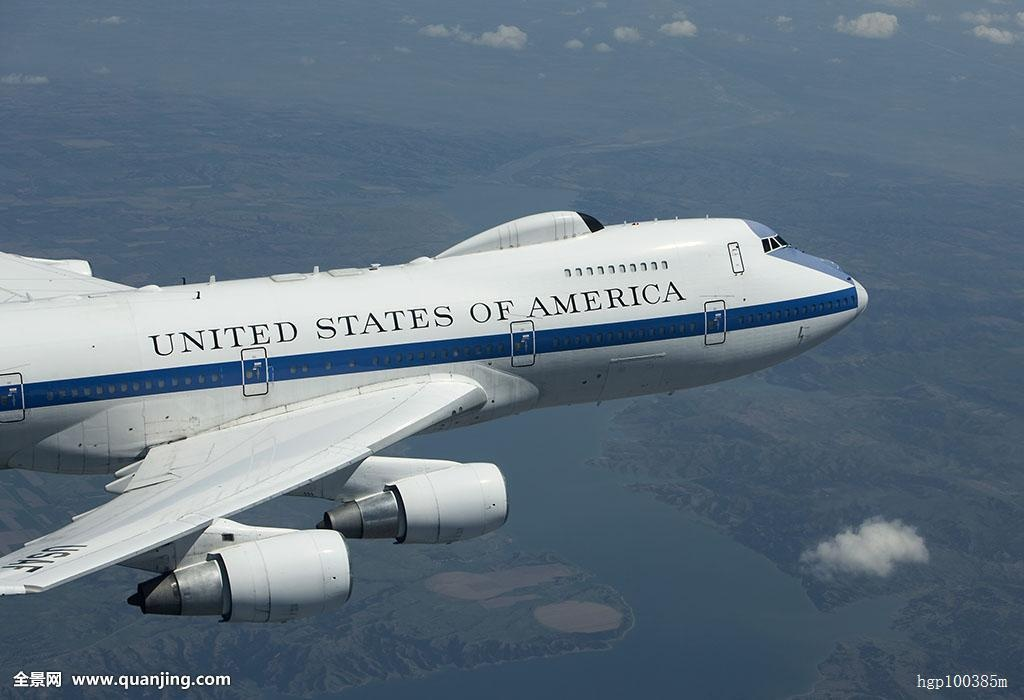airplane: (3, 210, 869, 626)
